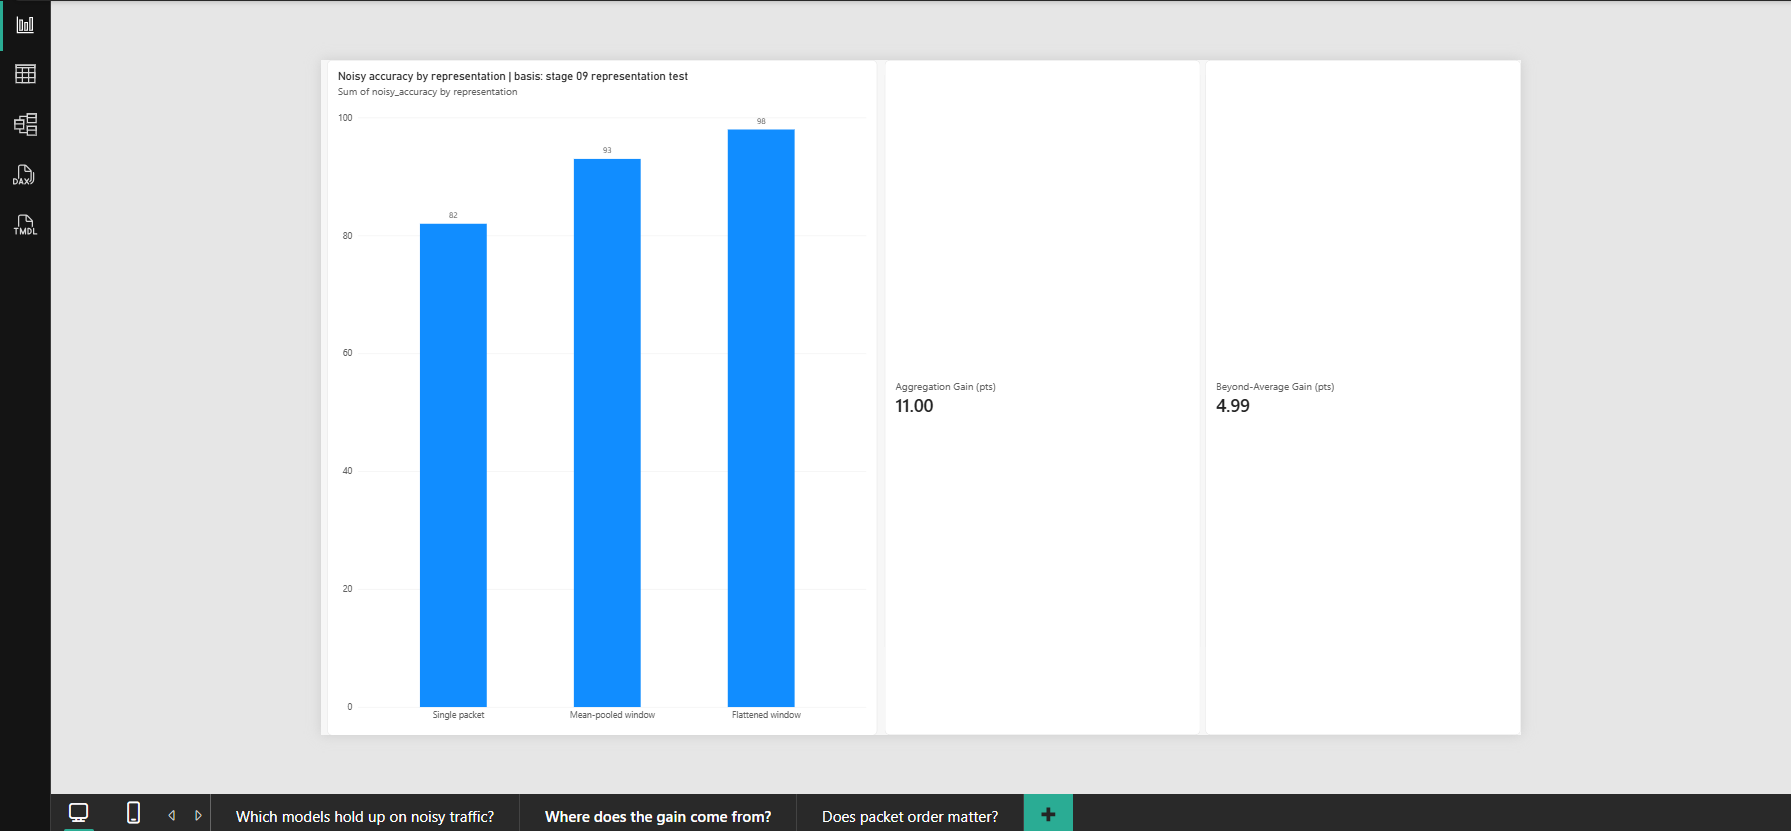

Layout of this report page (visuals, bound fields, positions):
{"tool":"powerbi","page":{"name":"Where does the gain come from?","canvas":[1920,1080],"ordinal":1},"visuals":[{"type":"clusteredColumnChart","title":"Noisy accuracy by representation | basis: stage 09 representation test","fields":{"Category":["fact_wifi_decomposition.representation"],"Y":["Sum(fact_wifi_decomposition.noisy_accuracy)"]},"box":[11,0,879.7,1080.5],"z":0},{"type":"cardVisual","fields":{"Data":["fact_wifi_model_results.Aggregation Gain (pts)","fact_wifi_model_results.Beyond-Average Gain (pts)"]},"box":[901.6,0,1018.4,1080.5],"z":1}]}

Visuals, with their boxes on the page's 1920x1080 design canvas (x1, y1, x2, y2). These are canvas units, not pixel positions in the 1791x831 screenshot, which may show the page scaled, cropped or inside an application window:
"Noisy accuracy by representation | basis: stage 09 representation test" clusteredColumnChart: box(11, 0, 891, 1080)
cardVisual - fact_wifi_model_results.Aggregation Gain (pts) x fact_wifi_model_results.Beyond-Average Gain (pts): box(902, 0, 1920, 1080)
